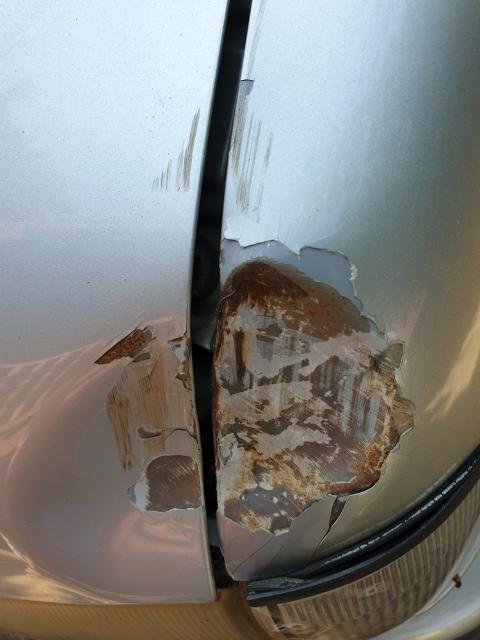dent: (0, 309, 214, 607), (212, 249, 418, 547)
scratch: (227, 0, 276, 223), (148, 98, 203, 196)
